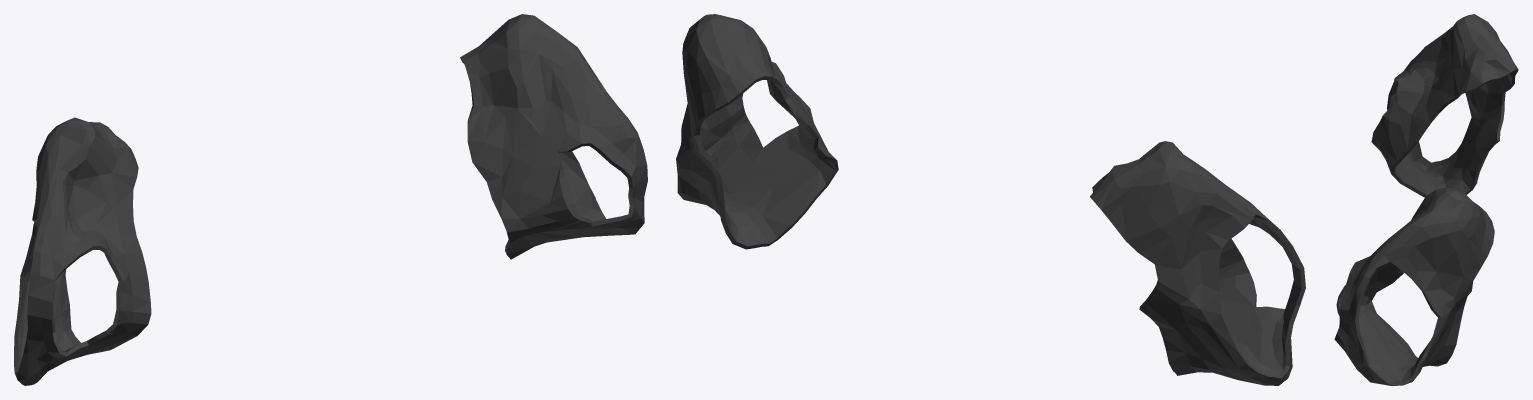
File: t6_transverse_process.glb
3 views of the same model, side by side, from view 1: azimuth 30°, elevation 25°; view 2: azimuth 150°, elevation 25°; view 3: azimuth 270°, elevation 25° (orthographic). The views are drawn at different scales.
Visible parts, largest first — view 1: t6_transverse_process; view 2: t6_transverse_process; view 3: t6_transverse_process.
Boxes of the visible parts, x1,y1,x2,y2 form: t6_transverse_process: (14, 14, 647, 385); t6_transverse_process: (676, 14, 1305, 385); t6_transverse_process: (1334, 14, 1518, 385).
Bounding box in the file's own units: 36.14 × 13.46 × 11.53.
Materials: 1 (1 with a texture image).
